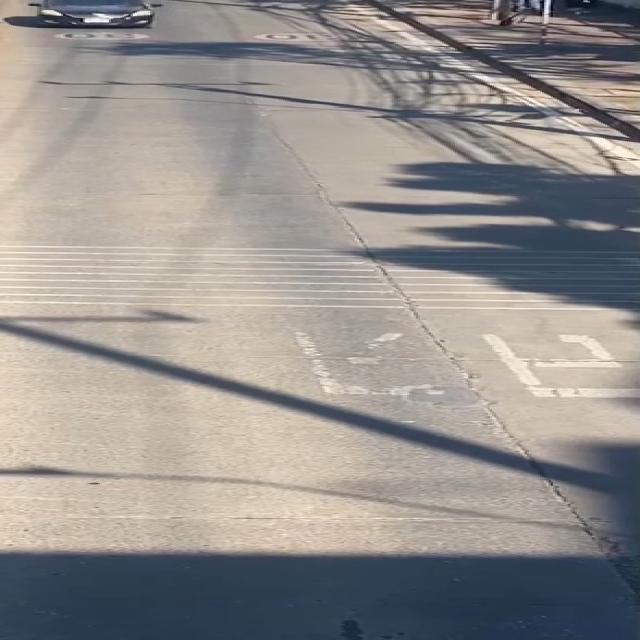car: (6, 0, 187, 38)
